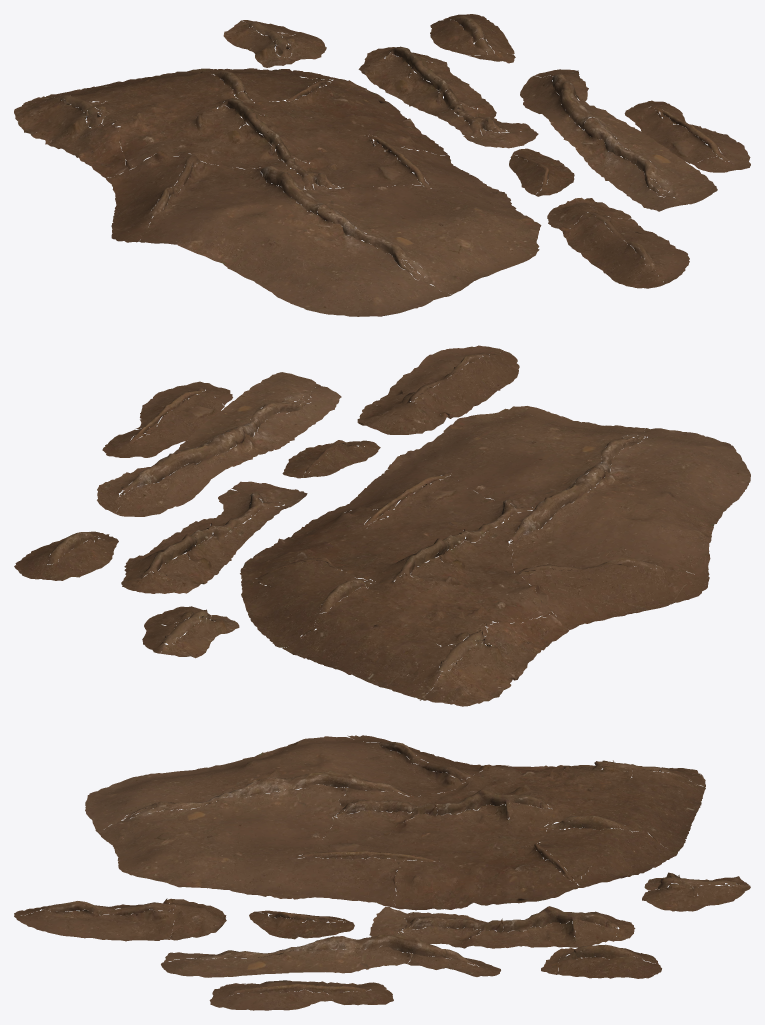
The model's file is ph_root_cluster_02.glb.
3 views of the same model, one above another, from view 1: azimuth 30°, elevation 25°; view 2: azimuth 150°, elevation 25°; view 3: azimuth 270°, elevation 25° (orthographic). The views are drawn at different scales.
Parts seen in each view (by area): view 1: ph_root_cluster_02; view 2: ph_root_cluster_02; view 3: ph_root_cluster_02.
Part boxes in pixels (left/top/right/bottom): ph_root_cluster_02: left=14, top=14, right=750, bottom=316; ph_root_cluster_02: left=14, top=345, right=750, bottom=706; ph_root_cluster_02: left=14, top=735, right=750, bottom=1010.
Size of the model in its own units: 2.38 by 0.1999 by 2.71.
Materials: 1 (1 with a texture image).
